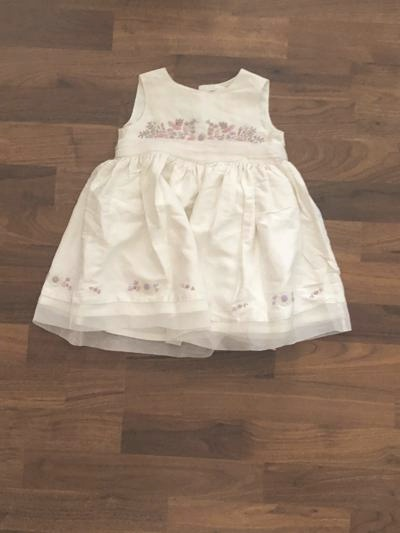Dress: (34, 58, 359, 401)
